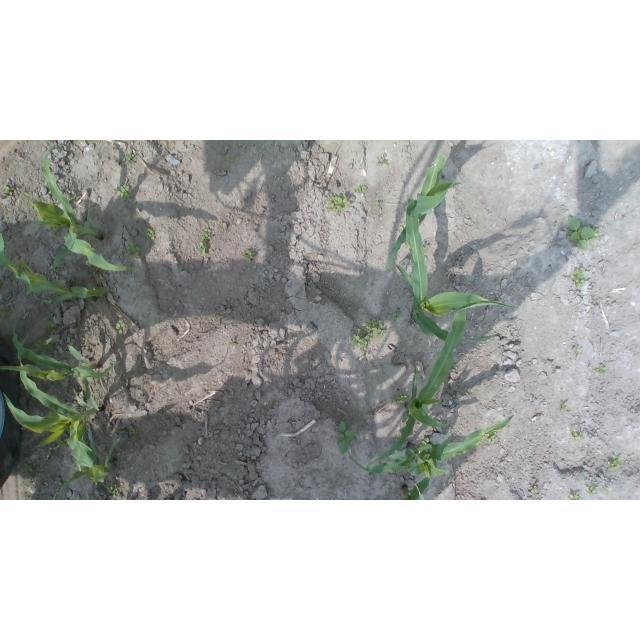Maize: (396, 198, 516, 344), (4, 333, 109, 483), (20, 145, 140, 273), (371, 310, 466, 461), (346, 414, 514, 480), (1, 322, 120, 414), (382, 155, 466, 270), (0, 231, 118, 305), (52, 424, 121, 501), (402, 428, 451, 501)
Weeds: (566, 217, 600, 252), (335, 420, 356, 454), (326, 195, 351, 216), (197, 228, 212, 257), (350, 331, 370, 352), (31, 337, 57, 353), (366, 319, 387, 338), (50, 434, 70, 451), (125, 242, 143, 259), (571, 268, 586, 288), (114, 184, 130, 201), (391, 392, 409, 407), (569, 428, 587, 443), (23, 457, 37, 476), (608, 454, 624, 470), (42, 320, 56, 338), (115, 319, 129, 335), (106, 482, 119, 495), (144, 227, 156, 240), (245, 249, 256, 263), (585, 485, 600, 495), (1, 307, 12, 320), (50, 226, 61, 239), (484, 431, 496, 442), (379, 153, 389, 166), (125, 153, 136, 164), (595, 364, 607, 374), (390, 311, 401, 321), (4, 183, 13, 195), (66, 194, 76, 204), (131, 429, 141, 439), (355, 185, 367, 193), (529, 485, 539, 494), (569, 492, 580, 500), (560, 403, 569, 412), (70, 296, 79, 304), (421, 437, 429, 445), (269, 401, 277, 408), (224, 155, 233, 161), (574, 349, 583, 355), (157, 318, 164, 325), (375, 201, 382, 208), (223, 163, 229, 171), (228, 338, 236, 344), (423, 245, 428, 254), (505, 422, 510, 427), (216, 320, 221, 325), (250, 320, 256, 324), (86, 496, 90, 501), (218, 222, 222, 226), (554, 222, 558, 226), (98, 498, 102, 500)
